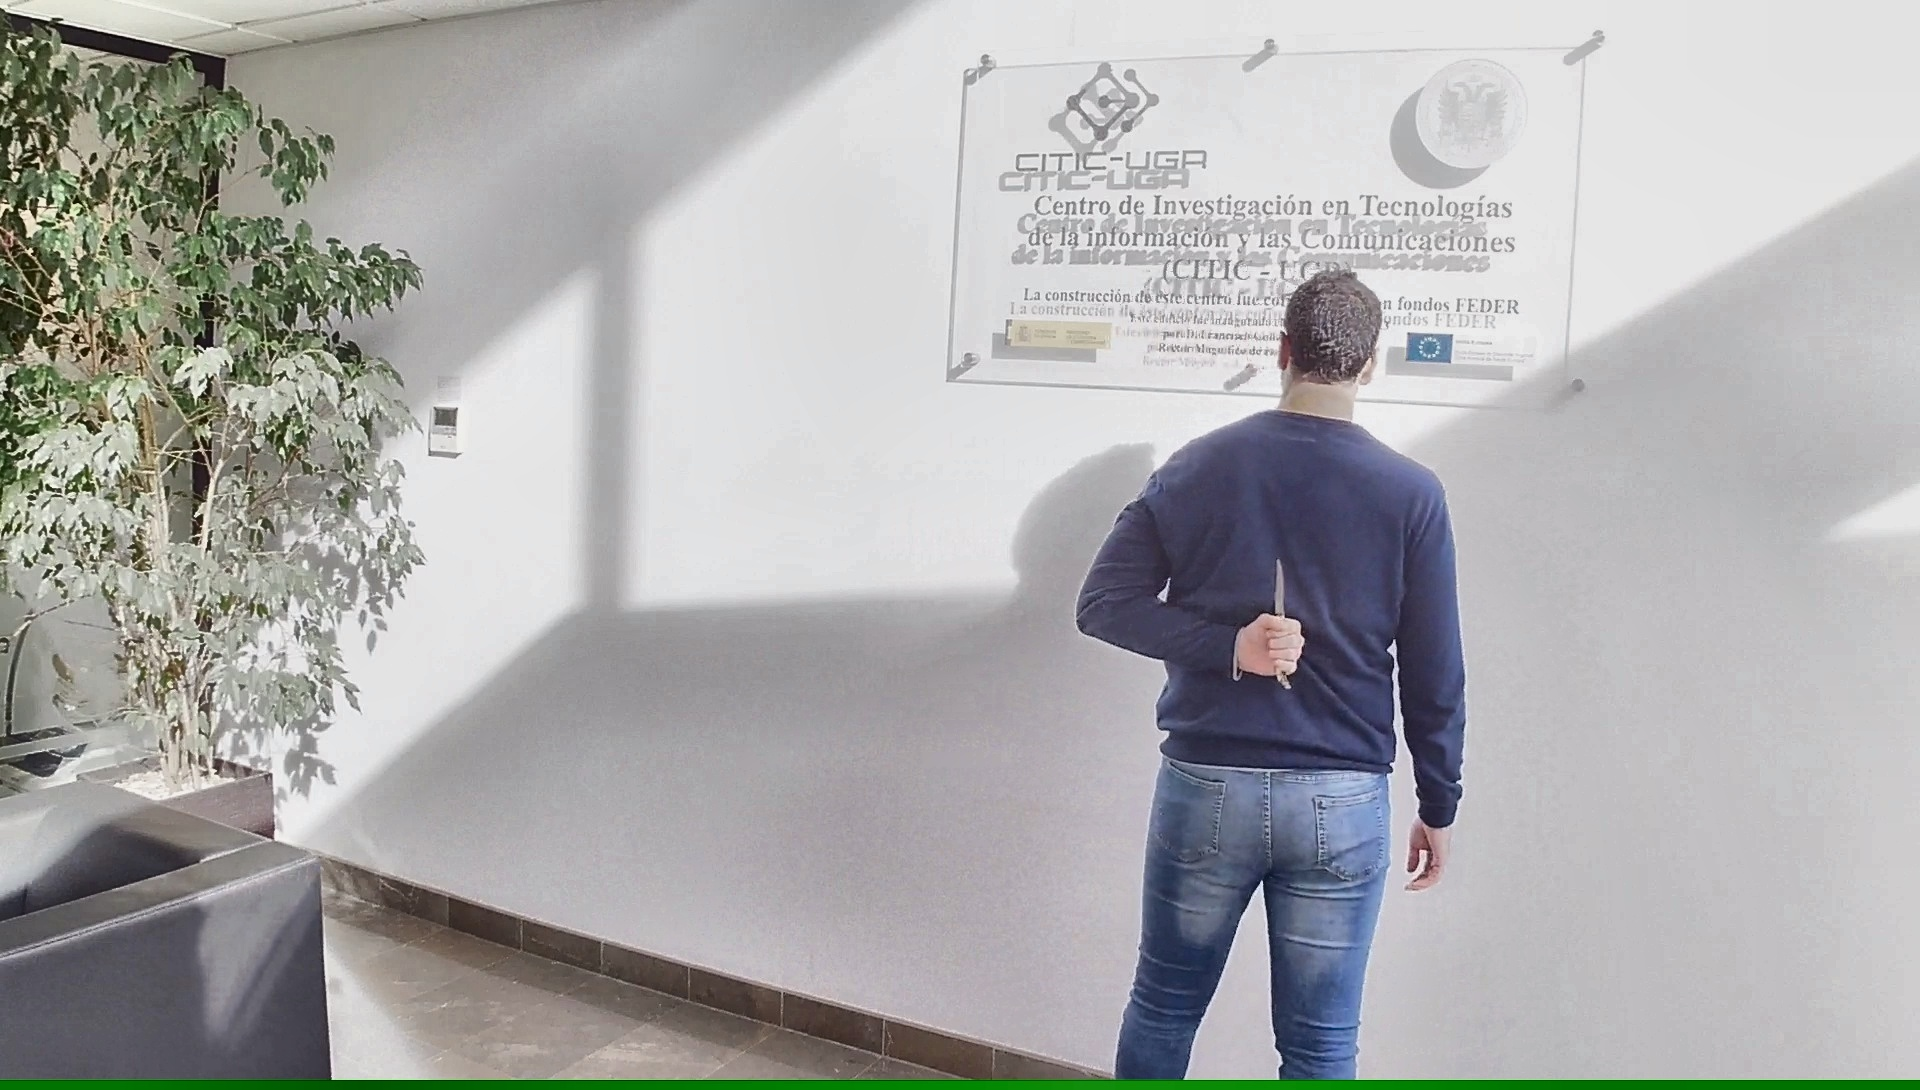knife: (1265, 547, 1308, 695)
